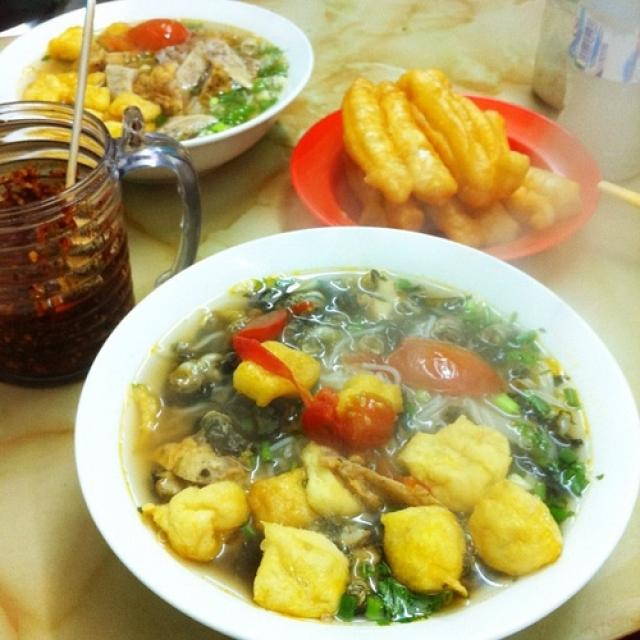面条主食: (76, 220, 634, 634)
